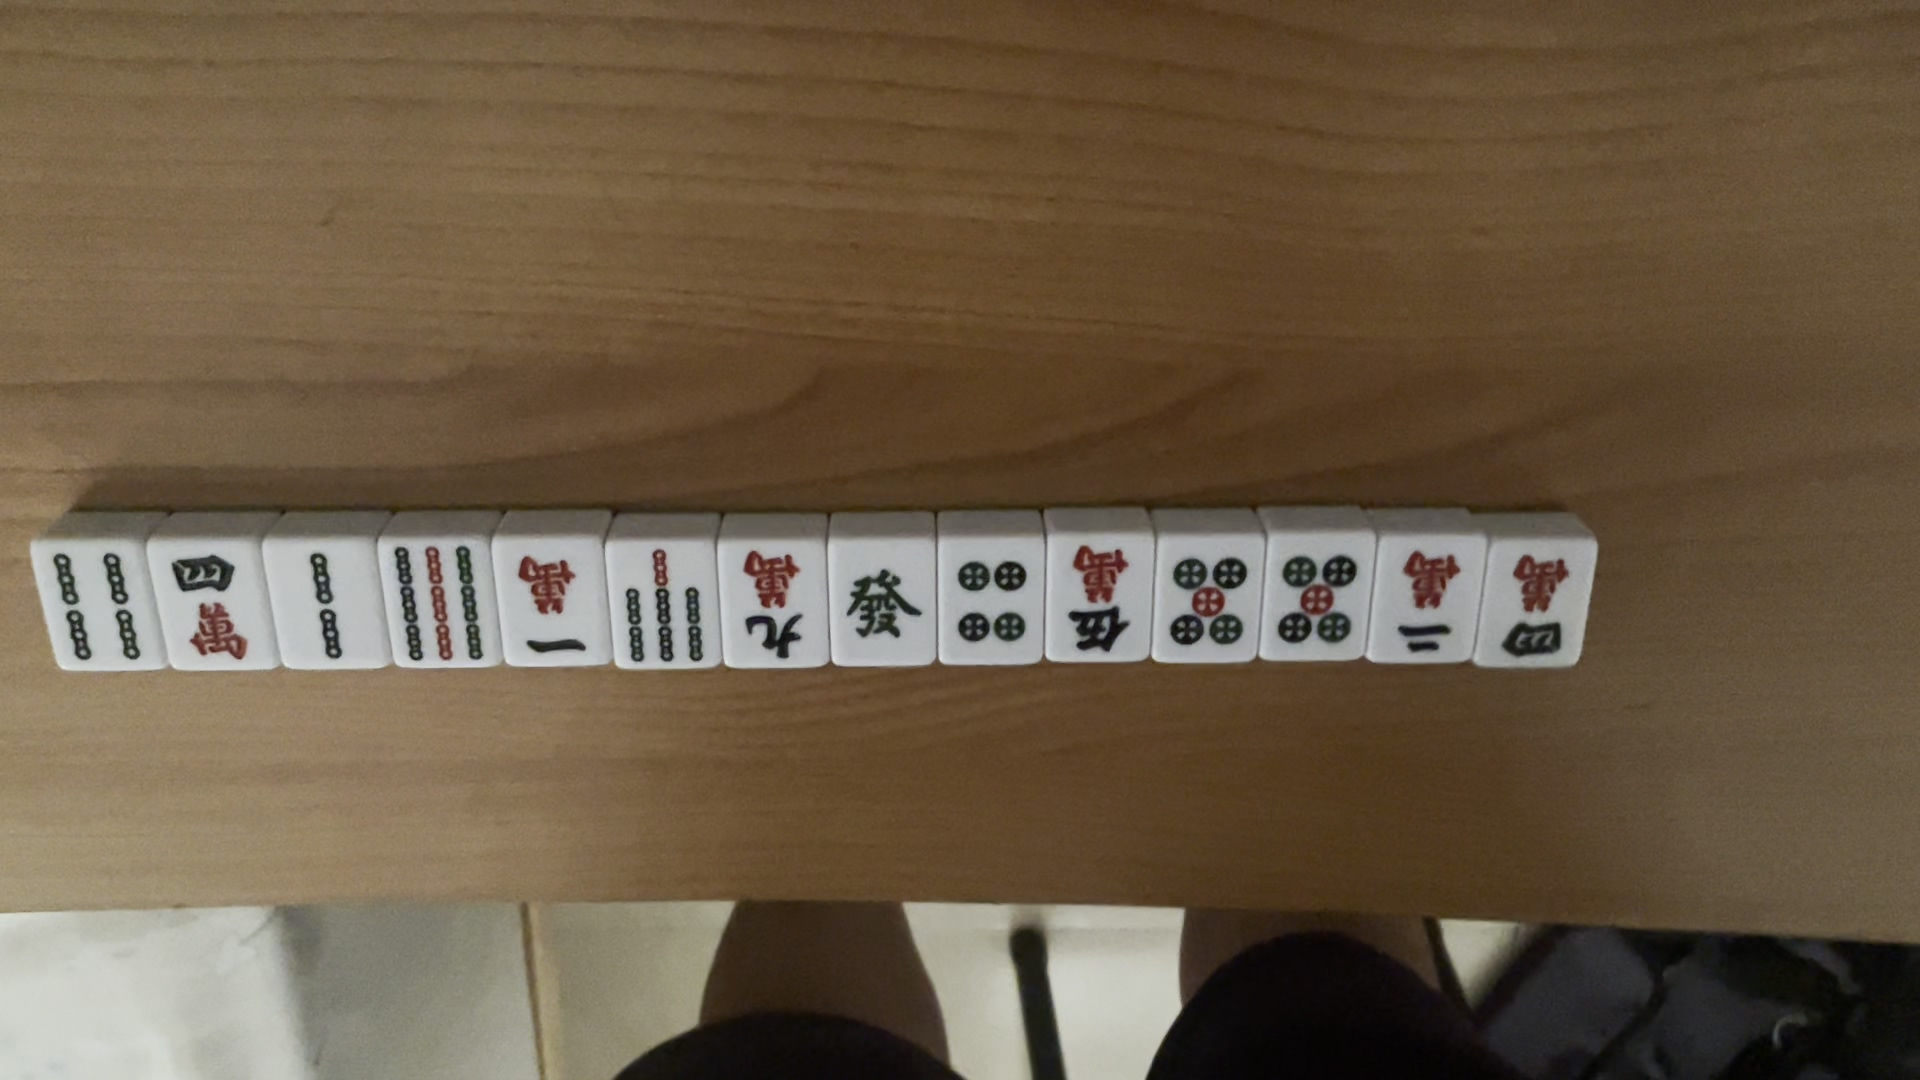b-2: (297, 553, 358, 664)
b-4: (48, 548, 144, 669)
b-7: (622, 546, 710, 664)
b-9: (387, 544, 493, 663)
c-1: (515, 553, 596, 660)
c-2: (1390, 543, 1470, 653)
c-4: (168, 548, 252, 669), (1500, 550, 1571, 660)
c-5: (1061, 538, 1132, 656)
c-9: (725, 546, 810, 666)
d-4: (949, 562, 1029, 659)
d-5: (1276, 550, 1360, 653), (1168, 554, 1251, 650)
honors-green: (845, 562, 923, 653)
